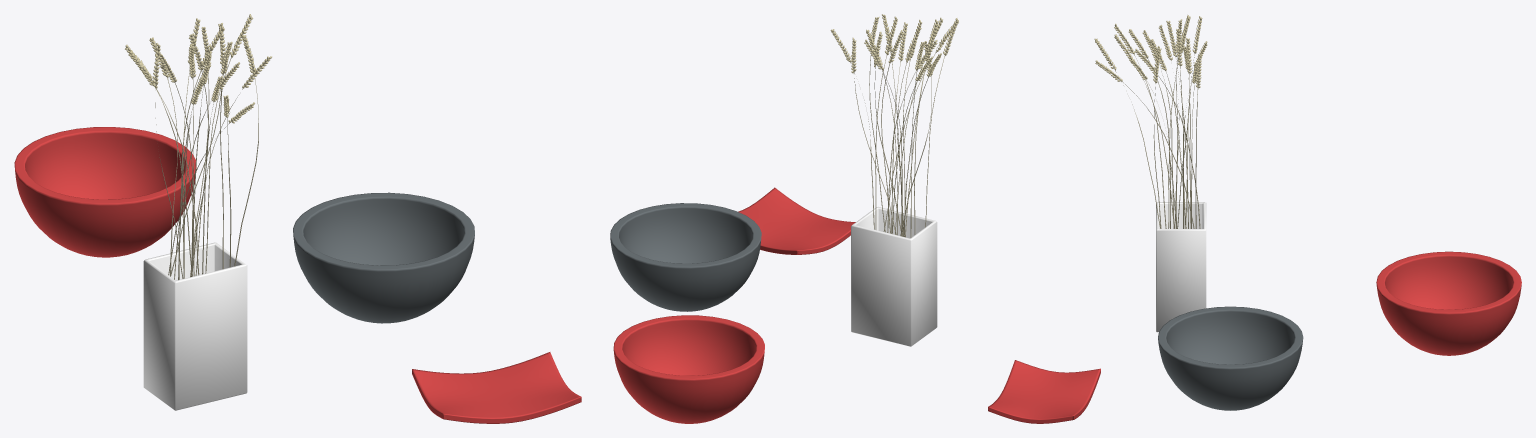
The model's file is complements1.glb.
3 views of the same model, side by side, from view 1: azimuth 30°, elevation 25°; view 2: azimuth 150°, elevation 25°; view 3: azimuth 270°, elevation 25° (orthographic). The views are drawn at different scales.
Parts seen in each view (by area): view 1: basket_Sphere, redbasket_Sphere.001, jarronCristal_Cube.1276, espigas_leaves.001, abstract_Cube.002; view 2: basket_Sphere, redbasket_Sphere.001, jarronCristal_Cube.1276, espigas_leaves.001, abstract_Cube.002; view 3: redbasket_Sphere.001, basket_Sphere, espigas_leaves.001, jarronCristal_Cube.1276, abstract_Cube.002.
Boxes of the visible parts, x1,y1,x2,y2 form: basket_Sphere: [293, 192, 474, 323]; redbasket_Sphere.001: [14, 127, 196, 257]; jarronCristal_Cube.1276: [143, 242, 247, 410]; espigas_leaves.001: [125, 14, 271, 279]; abstract_Cube.002: [412, 352, 581, 423]; basket_Sphere: [610, 203, 761, 311]; redbasket_Sphere.001: [613, 315, 764, 423]; jarronCristal_Cube.1276: [851, 207, 937, 346]; espigas_leaves.001: [830, 14, 958, 237]; abstract_Cube.002: [738, 187, 855, 254]; redbasket_Sphere.001: [1376, 251, 1521, 355]; basket_Sphere: [1158, 306, 1303, 410]; espigas_leaves.001: [1094, 15, 1207, 228]; jarronCristal_Cube.1276: [1156, 202, 1206, 332]; abstract_Cube.002: [988, 360, 1100, 423].
Size of the model in its own units: 0.9134 by 0.876 by 1.47.
Materials: 7 (2 with a texture image).
